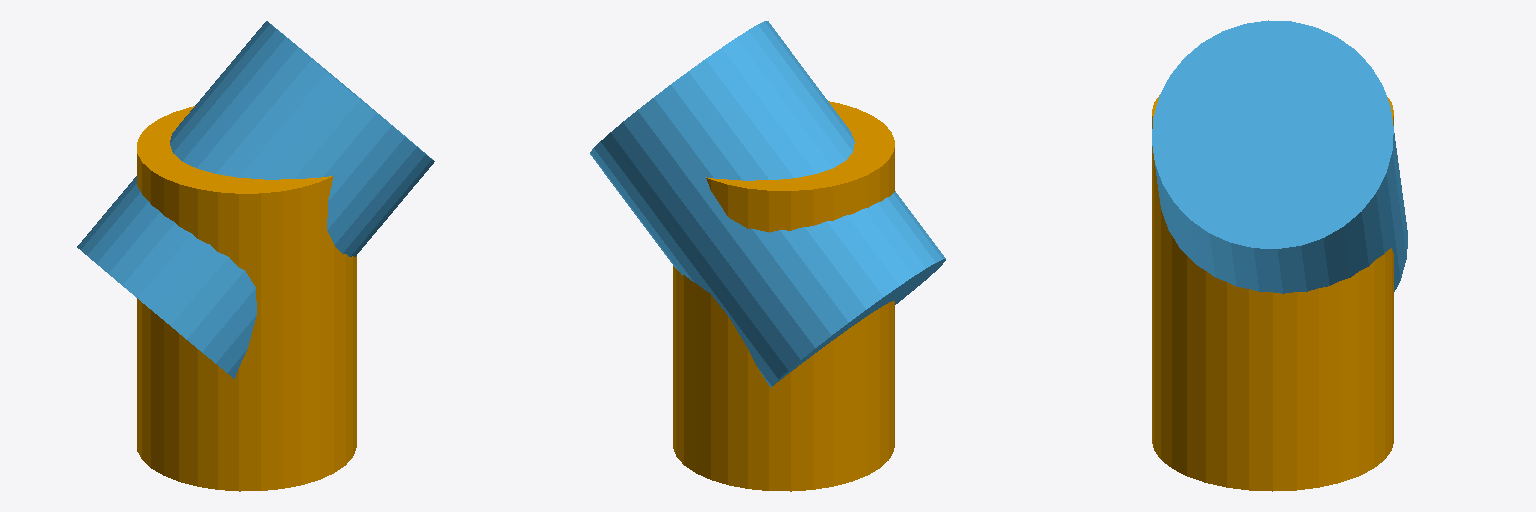
The robot description file, URDF, robot "pepe":
<?xml version="1.0"?><robot name="pepe">
	<link name="0">
		<visual>
			<geometry>
				<cylinder length="2.9780468539074367" radius="0.9999"/>
			</geometry>
		</visual>
		<collision>
			<geometry>
				<cylinder length="2.9780468539074367" radius="0.9999"/>
			</geometry>
		</collision>
		<inertial>
			<mass value="9.353939049816244"/>
			<inertia ixx="0.03" iyy="0.03" izz="0.03" ixy="0" ixz="0" iyx="0"/>
		</inertial>
	</link>
	<link name="11">
		<visual>
			<geometry>
				<cylinder length="2.6780468539074365" radius="0.9999"/>
			</geometry>
		</visual>
		<collision>
			<geometry>
				<cylinder length="2.6780468539074365" radius="0.9999"/>
			</geometry>
		</collision>
		<inertial>
			<mass value="8.411649739873743"/>
			<inertia ixx="0.03" iyy="0.03" izz="0.03" ixy="0" ixz="0" iyx="0"/>
		</inertial>
	</link>
	<joint name="11_to_0" type="revolute">
		<parent link="0"/>
		<child link="11"/>
		<axis xyz="0 1 0"/>
		<limit effort="1" upper="-3.1415" lower="3.1415" velocity="1"/>
		<origin rpy="0.7978502867217495 6.225550231962962 1.5650392050855029" xyz="0.1319503410670193 0.058181755163629334 0.8637086315317808"/>
	</joint>
</robot>

--- Render facts (derived) ---
Views: 3 orthographic renders of the robot side by side, from view 1: azimuth 30°, elevation 25°; view 2: azimuth 150°, elevation 25°; view 3: azimuth 270°, elevation 25°.
Robot: pepe — 2 links, 1 joints (1 revolute); root link 0; default pose: every joint at zero.
Links seen in each view (by area): view 1: 0, 11; view 2: 11, 0; view 3: 11, 0.
Link boxes in pixels (bbox=[...]): 0: bbox=[137, 106, 356, 491]; 11: bbox=[77, 21, 434, 378]; 11: bbox=[590, 21, 945, 387]; 0: bbox=[673, 101, 894, 491]; 11: bbox=[1152, 20, 1407, 293]; 0: bbox=[1152, 95, 1393, 491].
Bounding box of the posed robot: 3.31 × 2.12 × 4 m (x, y, z).
Geometry: primitives only (box / cylinder / sphere), no mesh files.
